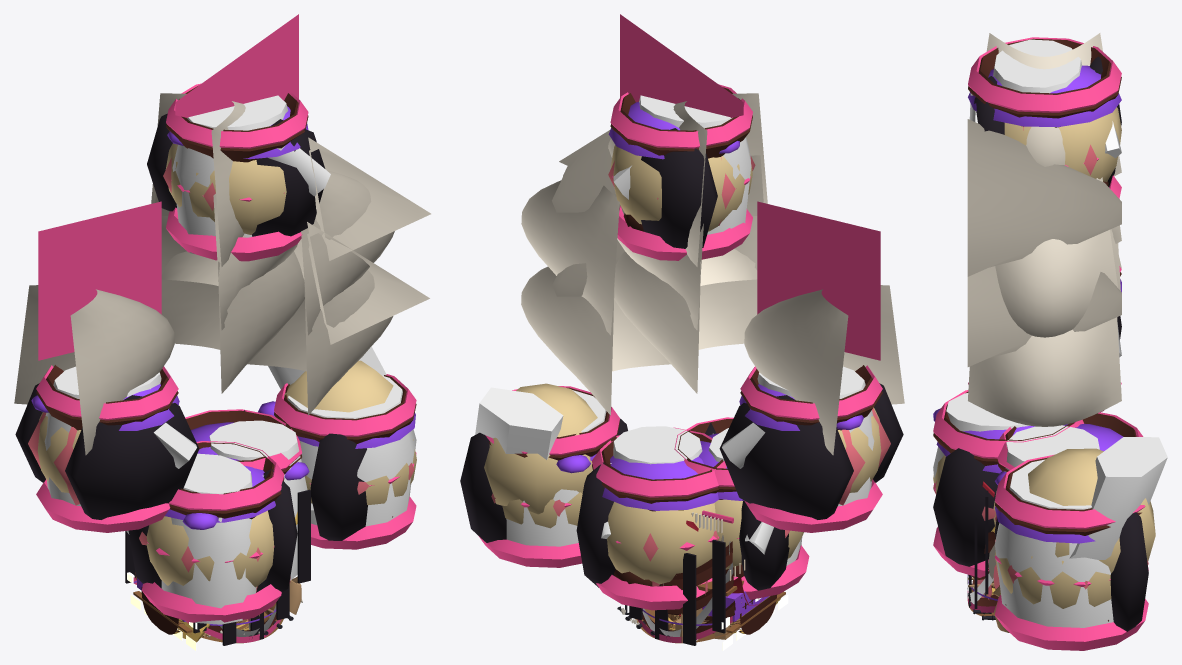
File: navire-v4.glb
The picture shows the model from 3 angles, left to right: view 1: azimuth 30°, elevation 25°; view 2: azimuth 150°, elevation 25°; view 3: azimuth 270°, elevation 25°; orthographic projection. The views are drawn at different scales.
Visible parts, largest first — view 1: matelot_corde.003, matelot_barreur.003, matelot_vigie.003, matelot_salut.003, drapeau.004, voile_artimon.003, voile_grande.004, voile_misaine.004, voile_misaine_hune.003, flamme.004, matelot_porteur.003, navire_corps.004 (+5 smaller); view 2: matelot_barreur.003, matelot_porteur.003, matelot_vigie.003, drapeau.004, voile_artimon.003, matelot_salut.003, matelot_salut_bras.003, voile_grande.004, navire_corps.004, voile_misaine.004, matelot_corde.003, voile_misaine_hune.003 (+5 smaller); view 3: matelot_salut.003, matelot_vigie.003, voile_foc.004, voile_misaine.004, matelot_corde.003, matelot_salut_bras.003, voile_misaine_hune.003, voile_foc2.003, matelot_porteur.003, voile_perroquet.004, navire_corps.004.
Boxes of the visible parts, x1,y1,x2,y2 form: matelot_corde.003: (126,441,297,624); matelot_barreur.003: (15,365,199,532); matelot_vigie.003: (147,83,330,261); matelot_salut.003: (258,374,416,549); drapeau.004: (38,201,161,360); voile_artimon.003: (14,285,174,455); voile_grande.004: (161,216,304,393); voile_misaine.004: (247,270,393,415); voile_misaine_hune.003: (301,170,394,335); flamme.004: (175,14,298,117); matelot_porteur.003: (185,409,309,580); navire_corps.004: (125,489,310,650); matelot_barreur.003: (719,365,903,532); matelot_porteur.003: (576,426,726,610); matelot_vigie.003: (608,84,755,260); drapeau.004: (757,201,880,360); voile_artimon.003: (744,285,904,455); matelot_salut.003: (460,386,627,567); matelot_salut_bras.003: (475,383,597,514); voile_grande.004: (614,216,757,393); navire_corps.004: (617,510,788,650); voile_misaine.004: (521,266,670,415); matelot_corde.003: (674,417,809,599); voile_misaine_hune.003: (521,180,619,335); matelot_salut.003: (994,454,1148,650); matelot_vigie.003: (968,37,1121,198); voile_foc.004: (967,119,1121,276); voile_misaine.004: (968,317,1121,426); matelot_corde.003: (933,390,1083,577); matelot_salut_bras.003: (1028,437,1167,573); voile_misaine_hune.003: (995,177,1117,337); voile_foc2.003: (967,266,1121,366); matelot_porteur.003: (995,412,1148,570); voile_perroquet.004: (986,33,1121,176); navire_corps.004: (967,481,1009,632).
Size of the model in its own units: 6.2 by 9 by 3.05.
